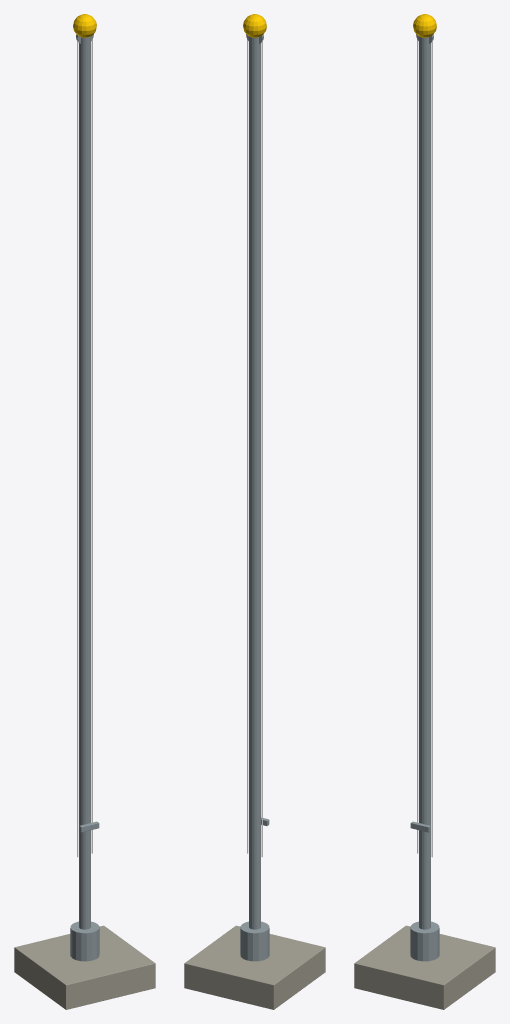
The model's file is national-day-flag-pole.glb.
3 renders of one model, left to right at view 1: azimuth 30°, elevation 25°; view 2: azimuth 150°, elevation 25°; view 3: azimuth 330°, elevation 25°, orthographic.
Parts seen in each view (by area): view 1: Pole, Concrete_Base, Halyard, Halyard.001, Socket, Finial; view 2: Pole, Concrete_Base, Halyard, Halyard.001, Socket, Finial; view 3: Pole, Concrete_Base, Halyard.001, Halyard, Socket, Finial.
Part boxes in pixels (left/top/right/bottom): Pole: left=79, top=36, right=90, bottom=929; Concrete_Base: left=14, top=925, right=155, bottom=1009; Halyard: left=77, top=40, right=78, bottom=857; Halyard.001: left=91, top=39, right=92, bottom=853; Socket: left=70, top=921, right=99, bottom=961; Finial: left=73, top=14, right=96, bottom=37; Pole: left=249, top=36, right=260, bottom=929; Concrete_Base: left=184, top=925, right=325, bottom=1009; Halyard: left=261, top=40, right=262, bottom=857; Halyard.001: left=247, top=39, right=248, bottom=853; Socket: left=240, top=921, right=269, bottom=961; Finial: left=243, top=14, right=266, bottom=37; Pole: left=419, top=36, right=430, bottom=929; Concrete_Base: left=354, top=925, right=495, bottom=1009; Halyard.001: left=431, top=40, right=432, bottom=857; Halyard: left=417, top=39, right=418, bottom=853; Socket: left=410, top=921, right=439, bottom=961; Finial: left=413, top=14, right=436, bottom=37.
Size of the model in its own units: 0.6 by 6.17 by 0.6.
